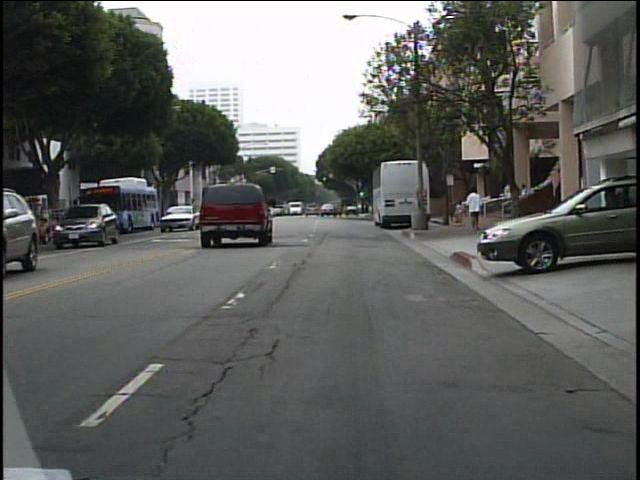person: (464, 184, 486, 236), (455, 198, 467, 225)
